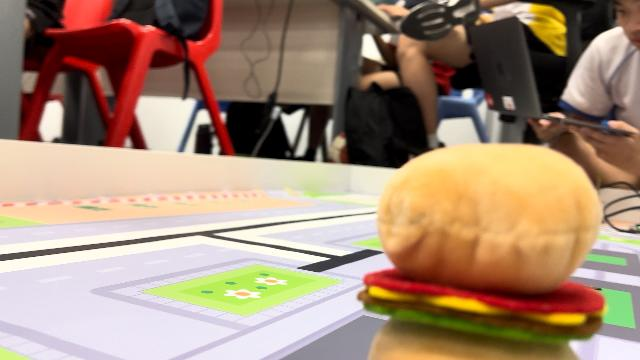burger: (360, 144, 604, 360)
